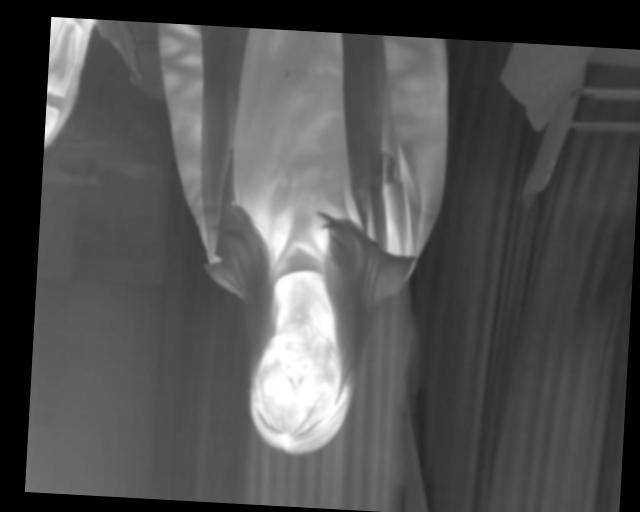face: (250, 318, 353, 457)
